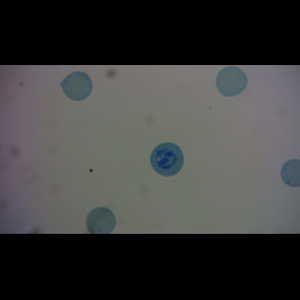aggregate reticulocyte: (149, 142, 185, 177)
erythrocyte: (215, 65, 249, 98)
punctate reticulocyte: (59, 71, 93, 101), (86, 207, 117, 234)
